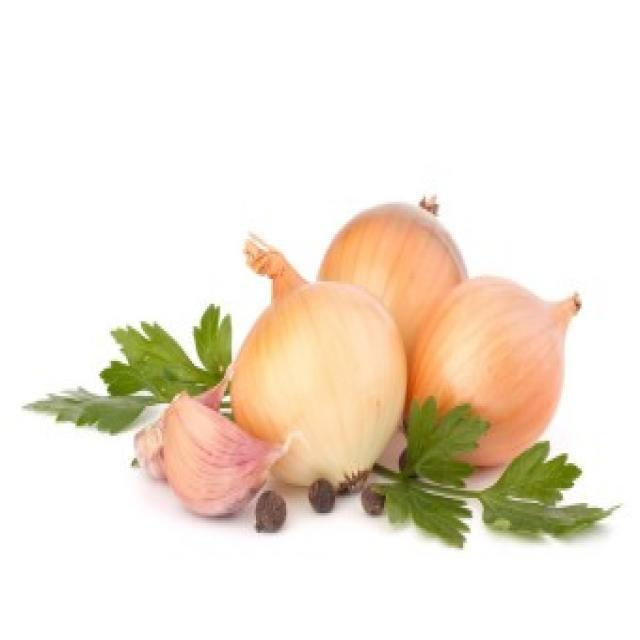onion: (231, 242, 407, 488), (410, 279, 579, 470), (319, 207, 466, 356)
